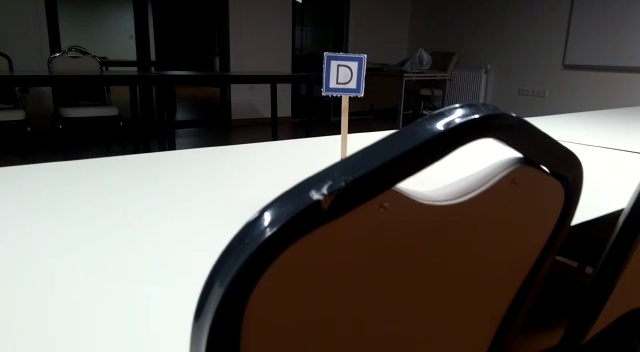durak: (324, 52, 365, 92)
